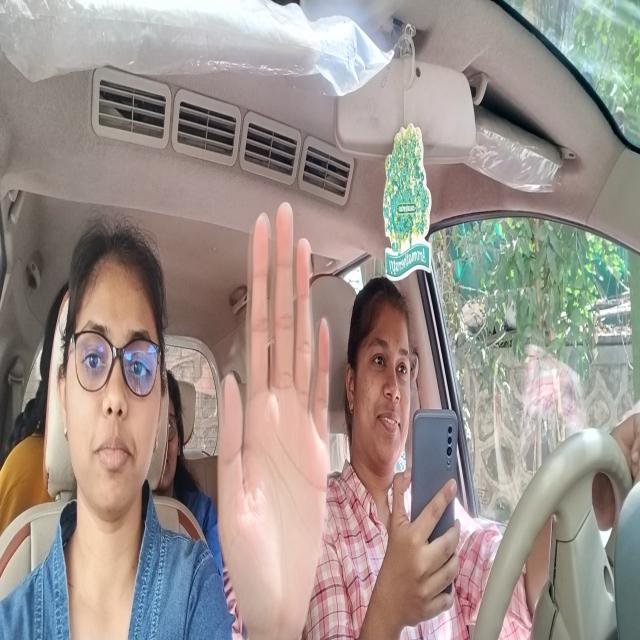mobile: (413, 400, 461, 573)
person: (78, 231, 160, 517), (346, 294, 409, 474), (167, 374, 187, 492)
